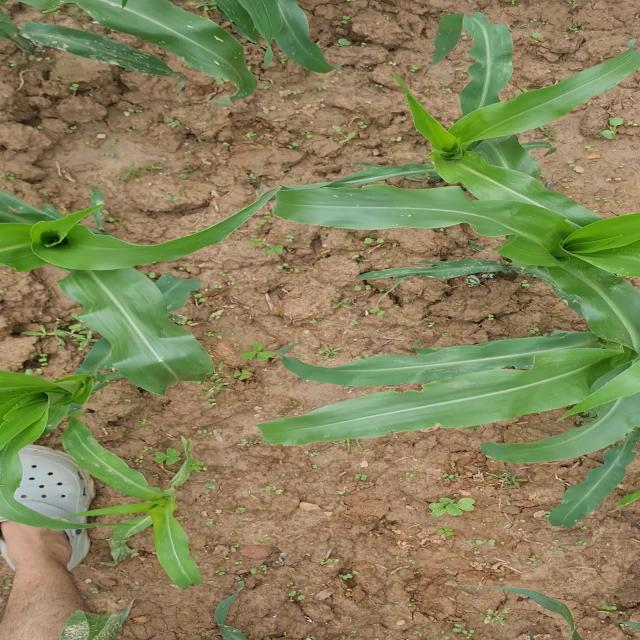maize: (281, 39, 640, 544), (0, 176, 209, 417), (0, 0, 348, 103), (95, 435, 237, 573), (468, 576, 605, 640), (188, 582, 289, 640)
weed: (424, 493, 508, 522)
